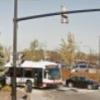buses: (5, 60, 62, 89)
